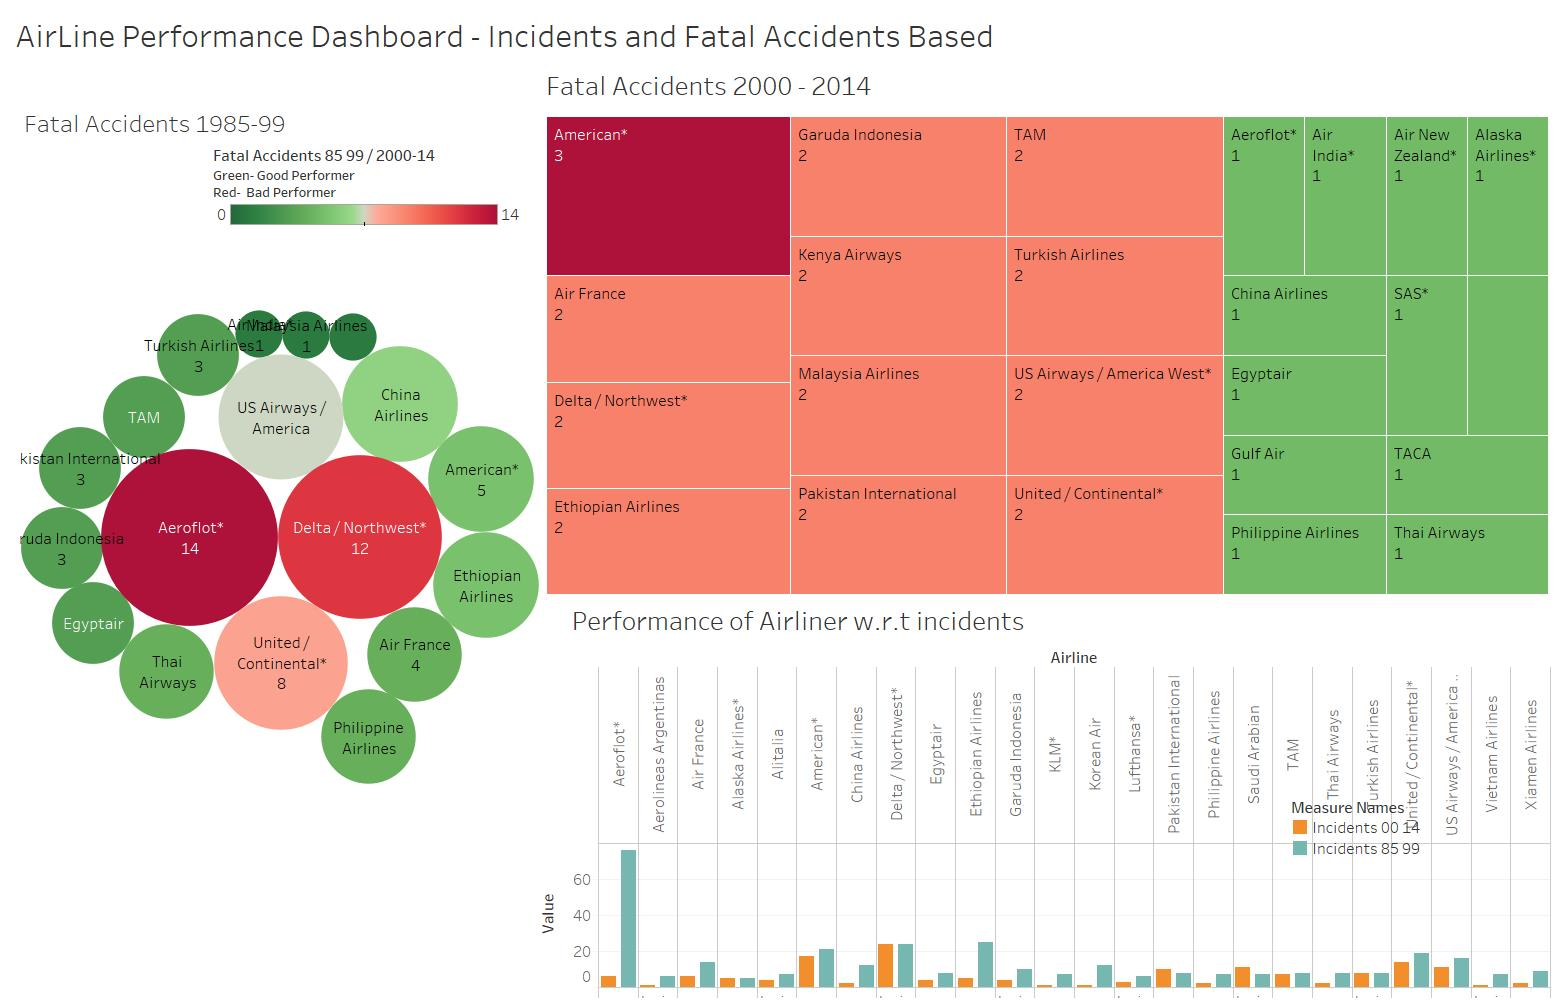

The page's visual inventory and layout, read from the dashboard file:
{"tool":"tableau","page":{"name":"Dashboard 2","canvas":[1557,1000],"ordinal":1},"visuals":[{"type":"worksheet","box":[0,0,1557,1000]},{"type":"worksheet","param":"horz","box":[8,8,1541,984]},{"type":"worksheet","param":"vert","box":[8,8,1541,984]},{"type":"worksheet","box":[8,8,1541,55]},{"type":"worksheet","title":"Fatal Accidents 2000 - 14","mark":"Automatic","box":[542,61.9,1010,537.2]},{"type":"worksheet","title":"Fatal Accidents 1985-99","mark":"Circle","box":[20,100.8,519,845.4]},{"type":"worksheet","title":"Fatal Accidents 1985-99","mark":"Circle","param":"[federated.00yteup03e6fi81d6x8zl135f6ha].[sum:fatal_accidents_85_99:qk]","box":[213,140.9,311,128.3]},{"type":"worksheet","title":"Airline total Incidents","mark":"Automatic","cols":["airline"],"box":[530,597,1021,401]},{"type":"worksheet","title":"Airline total Incidents","mark":"Automatic","cols":["airline"],"param":"[federated.00yteup03e6fi81d6x8zl135f6ha].[:Measure Names]","box":[1290,795,140,73]}]}

Visuals, with their boxes in screenshot pixels (x1, y1, x2, y2), scaled from the page's 1557x1000 canvas onto the 1560x1000 screenshot:
worksheet: [0,0,1559,999]
worksheet: [8,8,1552,992]
worksheet: [8,8,1552,992]
worksheet: [8,8,1552,63]
"Fatal Accidents 2000 - 14" worksheet: [543,62,1555,599]
"Fatal Accidents 1985-99" worksheet (Circle marks): [20,101,540,946]
"Fatal Accidents 1985-99" worksheet (Circle marks): [213,141,525,269]
"Airline total Incidents" worksheet: [531,597,1554,998]
"Airline total Incidents" worksheet: [1292,795,1433,868]
